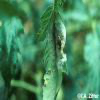Tomato leaf late blight: (39, 5, 73, 100)
